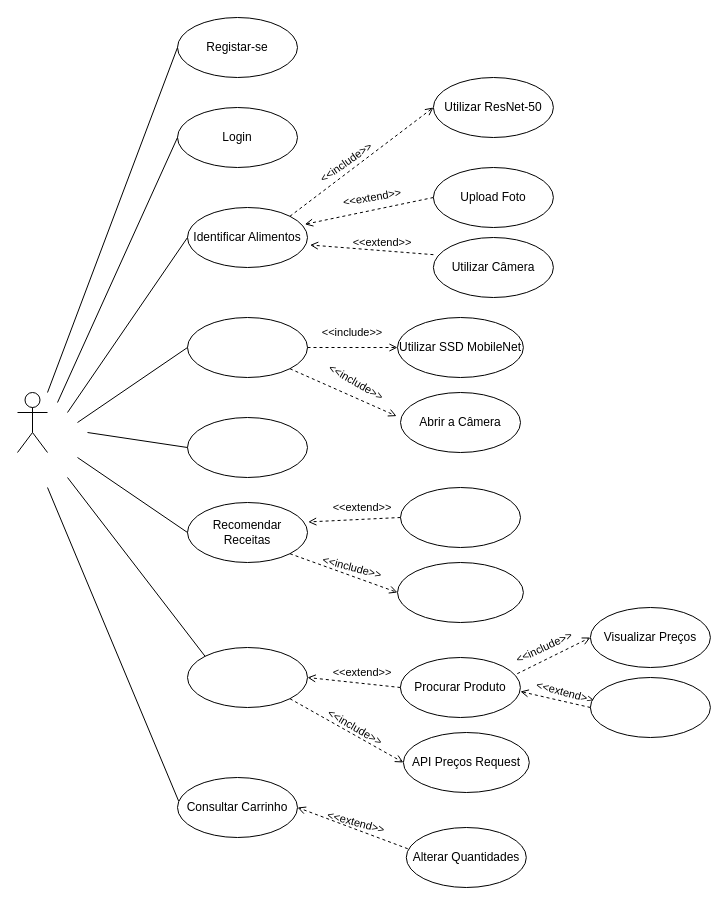
This 728x905 diagram has some shape labels left out. Each missing label, with the centre of its shape:
"Adicionar ao Carrinho" goes at [649,707].
"Adicionar detalhes pessoais" goes at [460,517].
"Consultar preços" goes at [247,677].
"Detetar Alimentos" goes at [247,347].
"OpenAI Request" goes at [459,592].
"User" goes at [32,422].
"Visualizar alimentos classificados" goes at [247,447].
